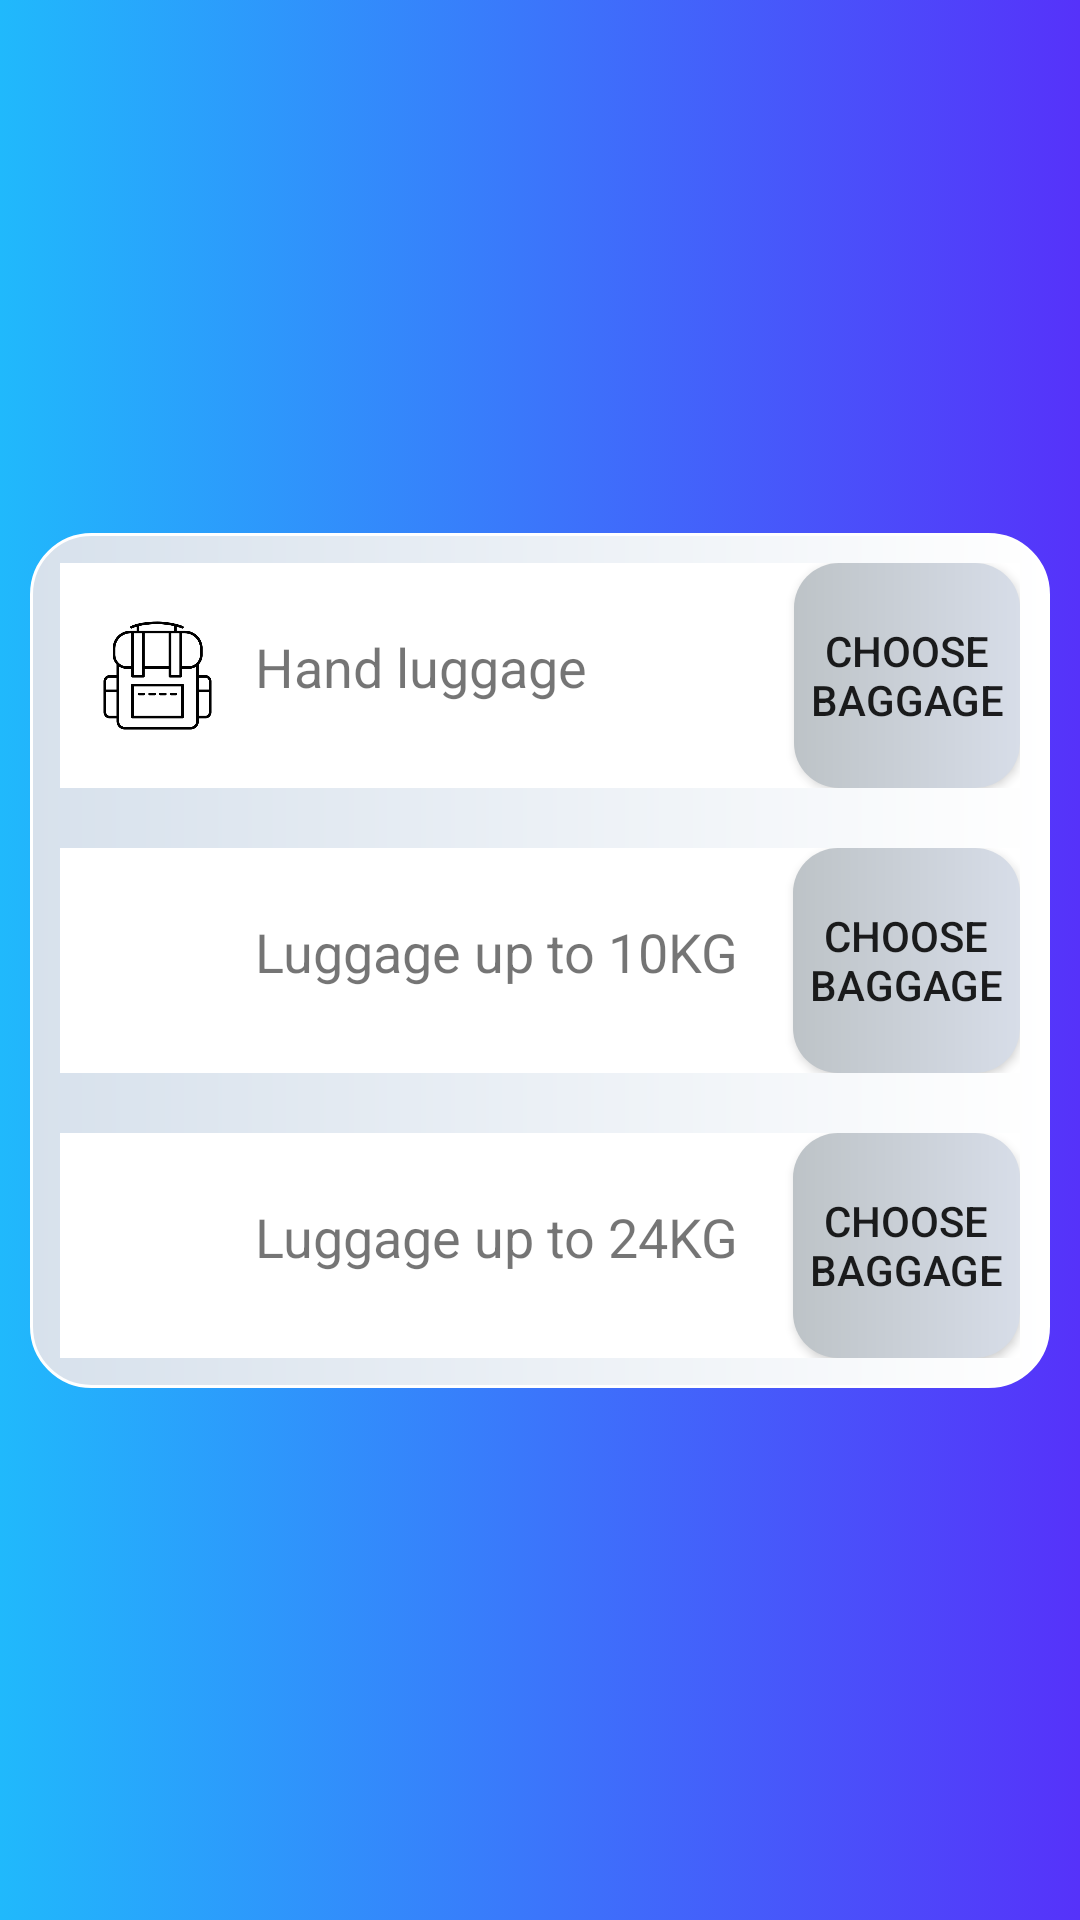

Where to tap for icons on this 1080px×1920px app screen, as point (x, y):
backpack: point (157, 675)
